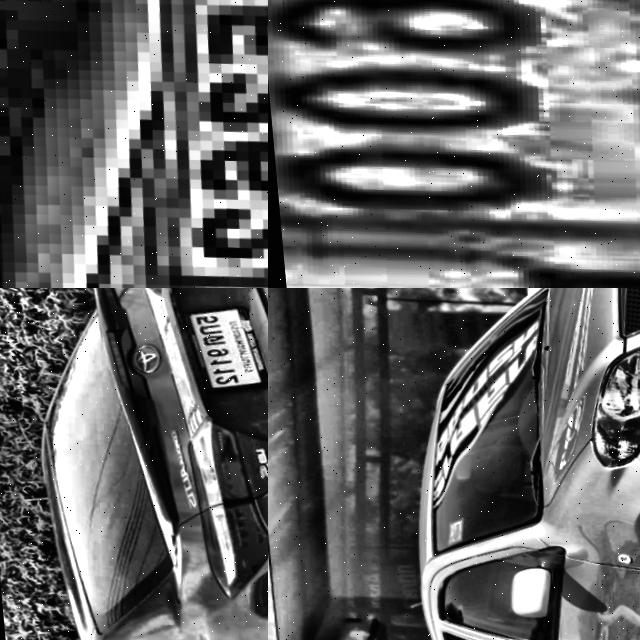license-plate: (268, 0, 640, 288), (0, 0, 268, 288), (173, 302, 268, 399)
